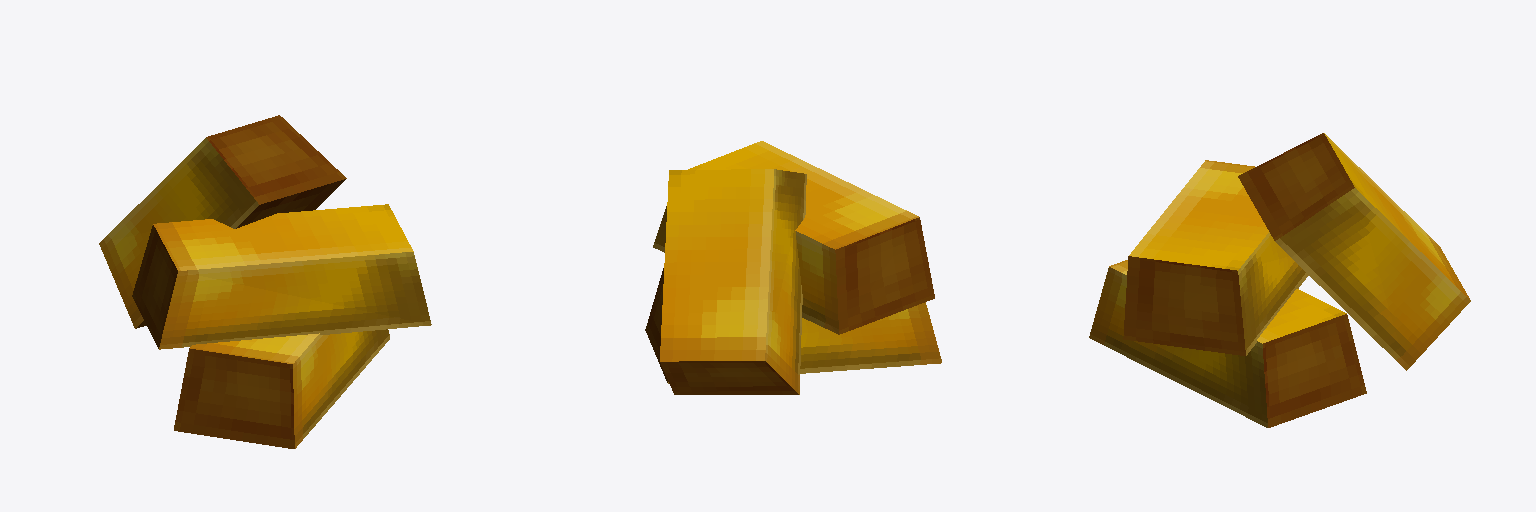
The picture shows the model from 3 angles: view 1: azimuth 30°, elevation 25°; view 2: azimuth 150°, elevation 25°; view 3: azimuth 270°, elevation 25°; orthographic projection.
Parts seen in each view (by area): view 1: lingots; view 2: lingots; view 3: lingots.
Part boxes in pixels (x1,y1,x2,y2): lingots: (99,115,431,448); lingots: (645,141,941,394); lingots: (1089,133,1470,427).
Bounding box in the file's own units: 0.8872 × 0.7031 × 1.11.
1 materials, 1 textured.